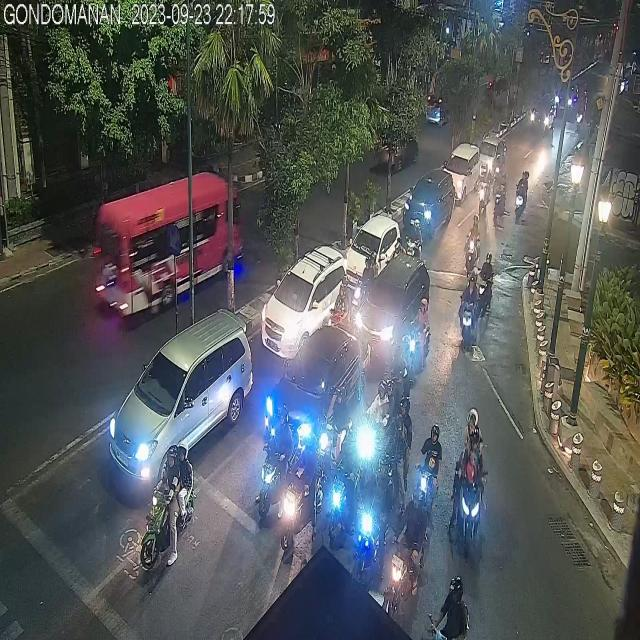bus: (91, 168, 243, 318)
car: (108, 309, 253, 491), (264, 326, 364, 429), (262, 248, 346, 354), (353, 254, 432, 343), (344, 219, 402, 284), (406, 169, 454, 236), (443, 146, 482, 201), (476, 138, 504, 179)
motorcycle: (144, 443, 196, 573), (383, 488, 434, 608), (284, 425, 324, 548), (258, 404, 297, 502), (328, 438, 362, 547), (383, 396, 416, 499), (458, 434, 487, 547), (362, 377, 392, 476), (416, 426, 446, 512), (411, 297, 434, 381), (350, 247, 377, 314), (460, 274, 481, 344), (479, 247, 495, 312), (462, 215, 479, 275), (514, 167, 531, 227), (475, 157, 491, 208), (490, 164, 504, 222), (406, 214, 420, 258)
